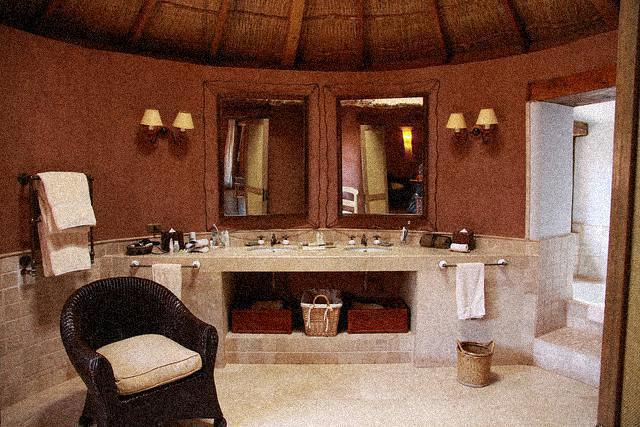Ducha: (521, 78, 638, 385)
Lavamanos: (340, 231, 392, 257), (249, 232, 297, 260)
